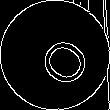O_NW: (22, 23, 88, 87)
